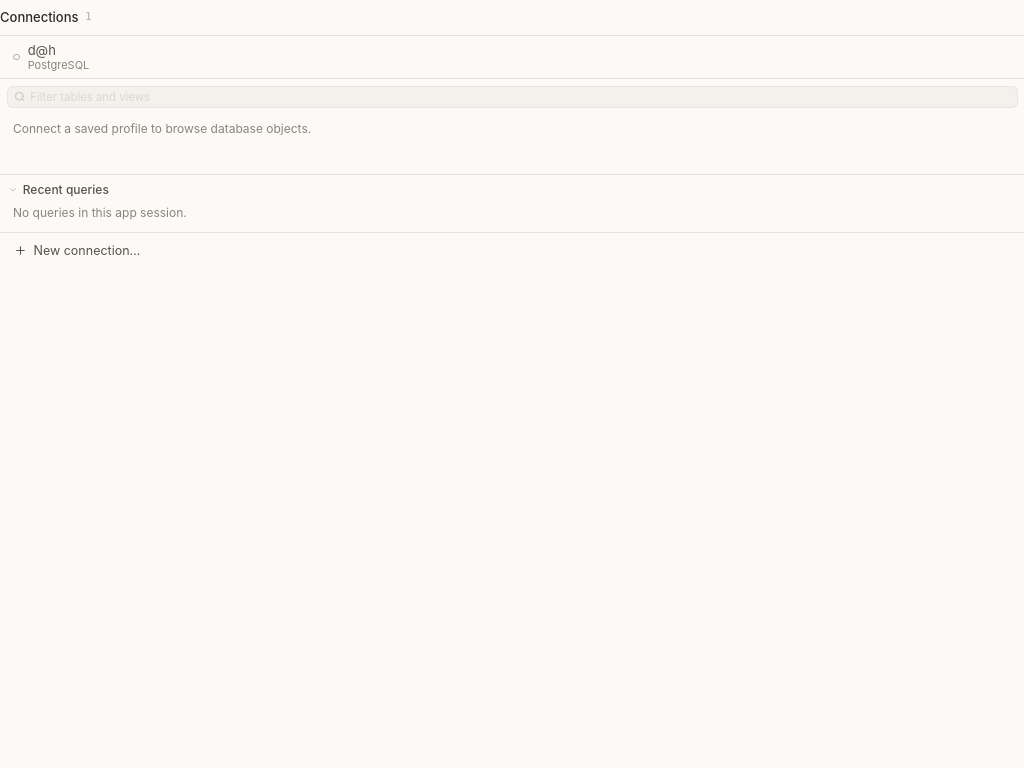
Test case: DatabaseNavContent saved connections › keeps the database navigation usable after dismissing a failed reconnect
Step 1. Click the text "d@h" → (42, 50), box [28, 42, 56, 58]
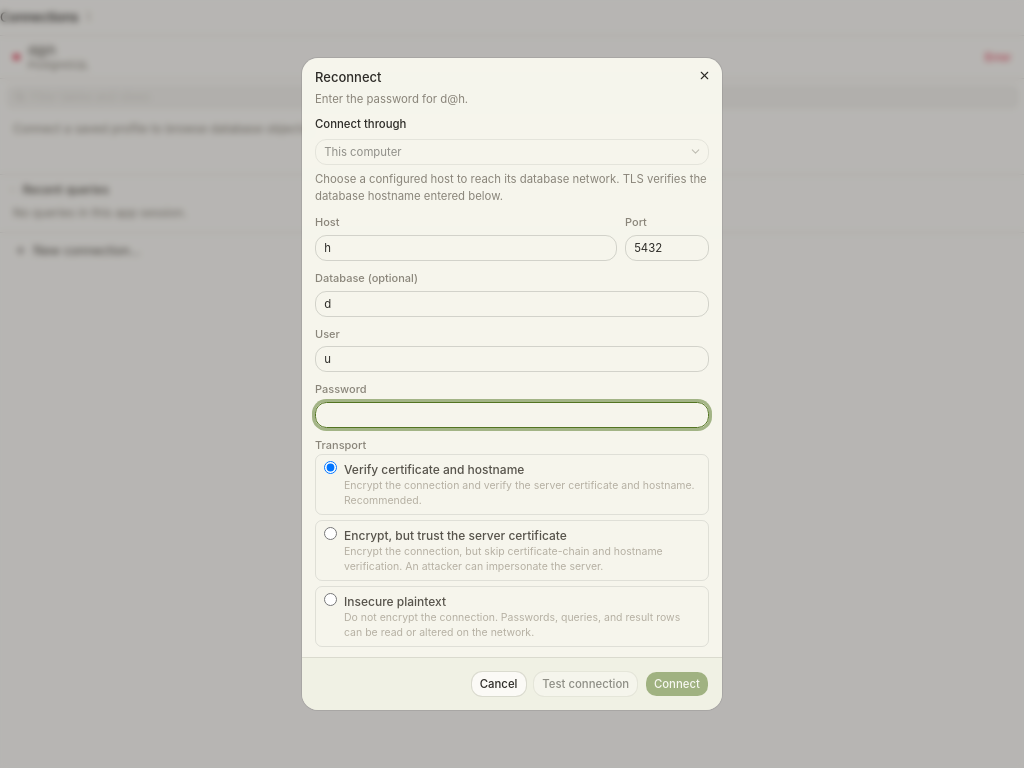
Step 2. Type "bad-password" into the password field labelled "Password" → (512, 415), box [315, 402, 709, 428]
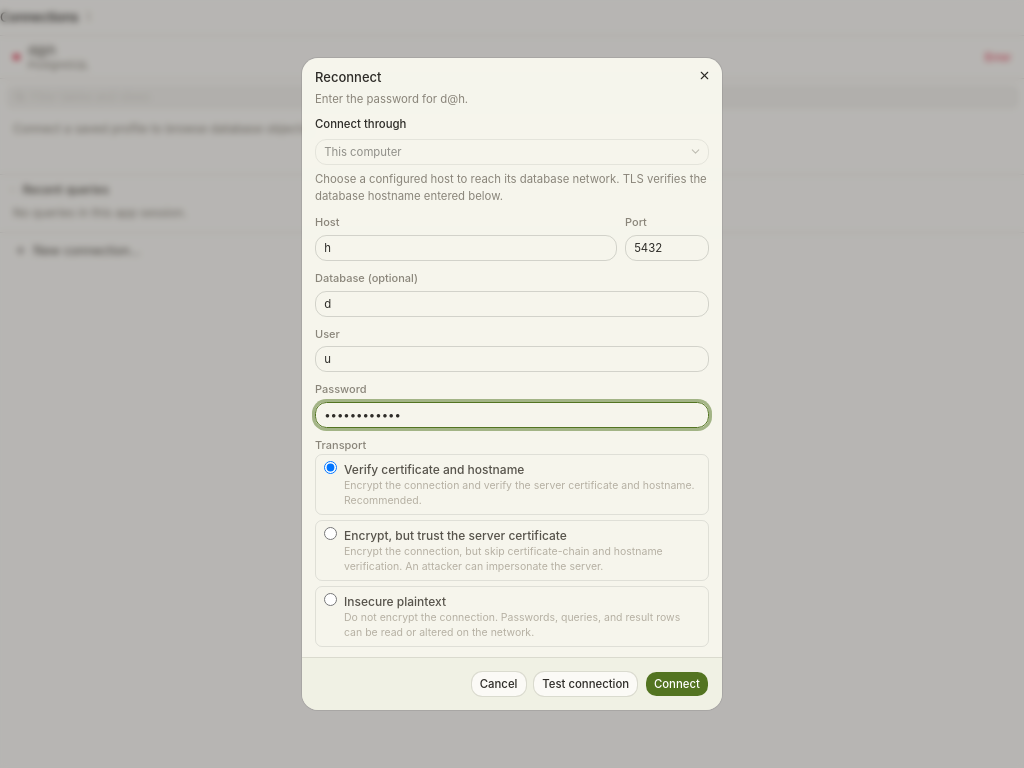
Step 3. Click the button "Connect" → (677, 684), box [645, 671, 709, 697]
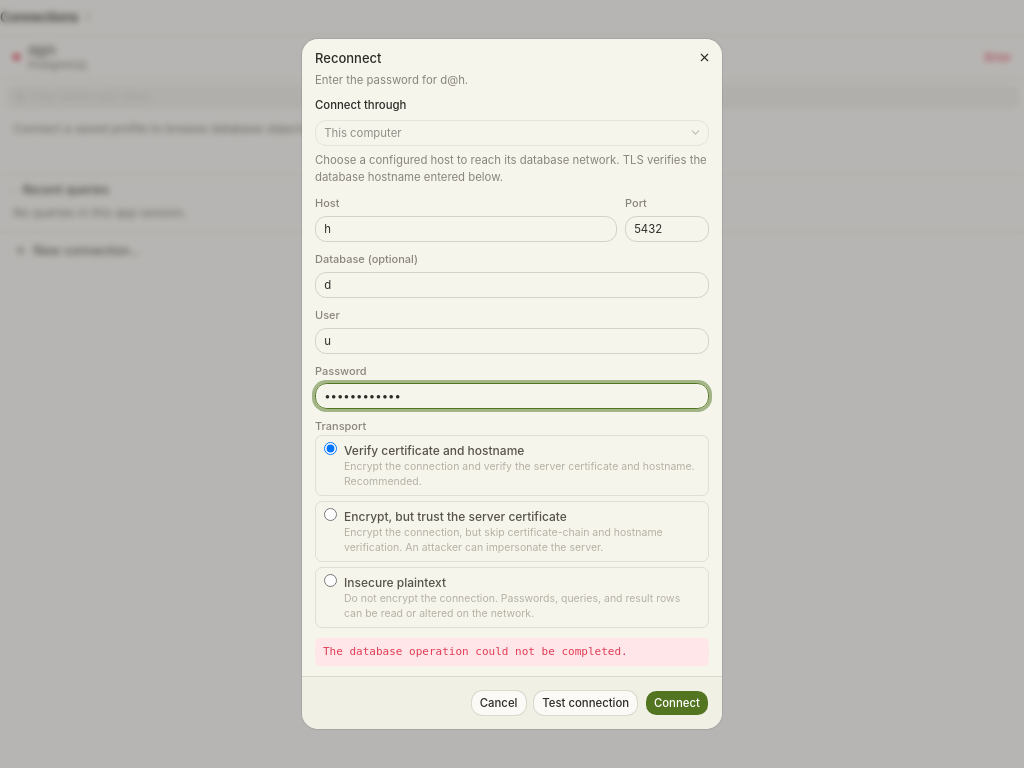
Result: the text "The database operation could not be completed." is shown at [315, 638, 709, 666]
Step 4. Click the button "Cancel" → (499, 703), box [471, 690, 527, 716]
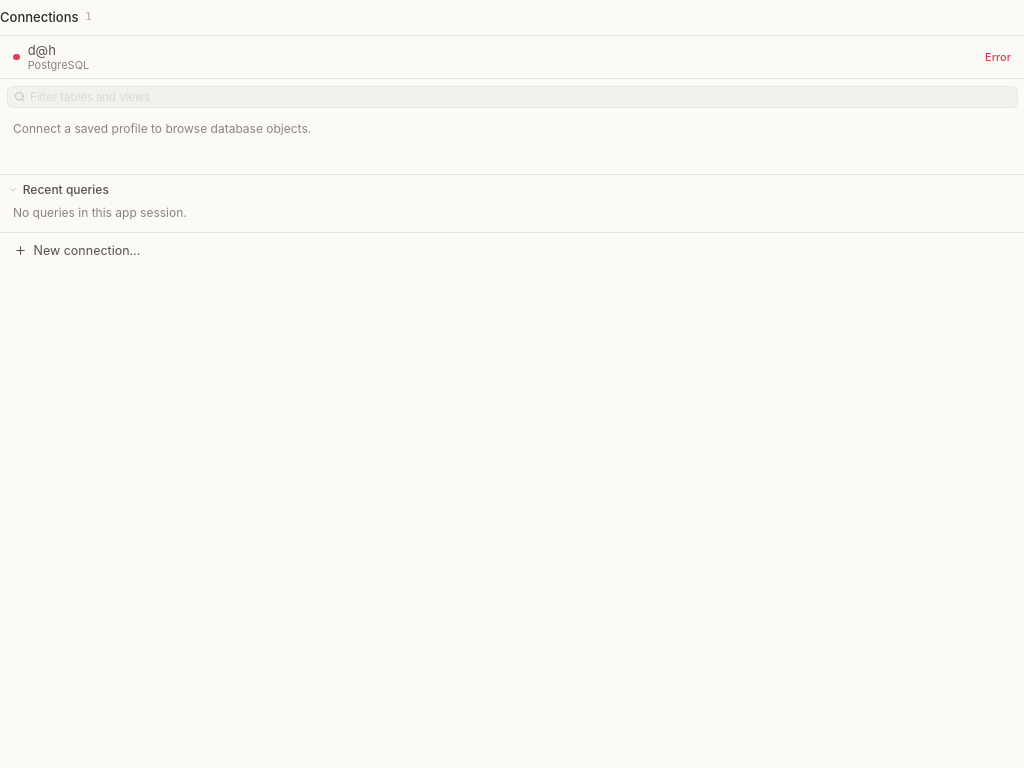
Expected: the text "d@h" is shown, [28, 42, 56, 58]
Result: the text "Error" is shown at [985, 49, 1011, 65]
Result: the dialog is gone
